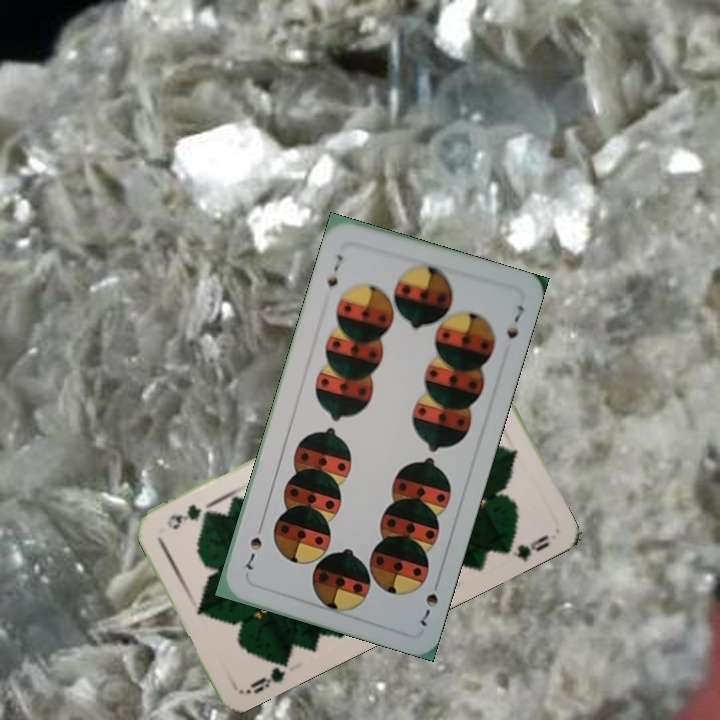G9: (241, 654, 292, 697)
S7: (416, 574, 443, 629), (323, 250, 345, 290)
